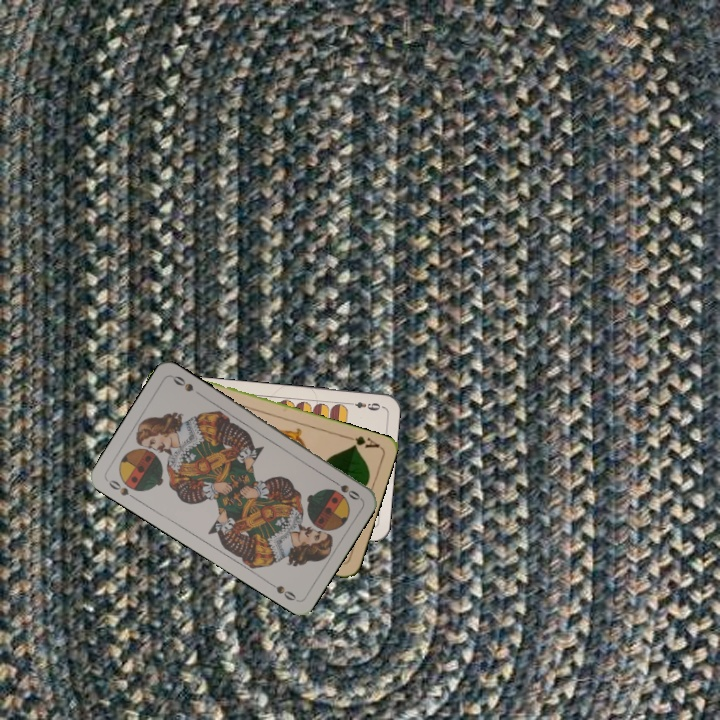E9: (344, 398, 383, 413)
GA: (342, 432, 382, 451)
SO: (326, 475, 363, 503), (103, 476, 139, 503)
